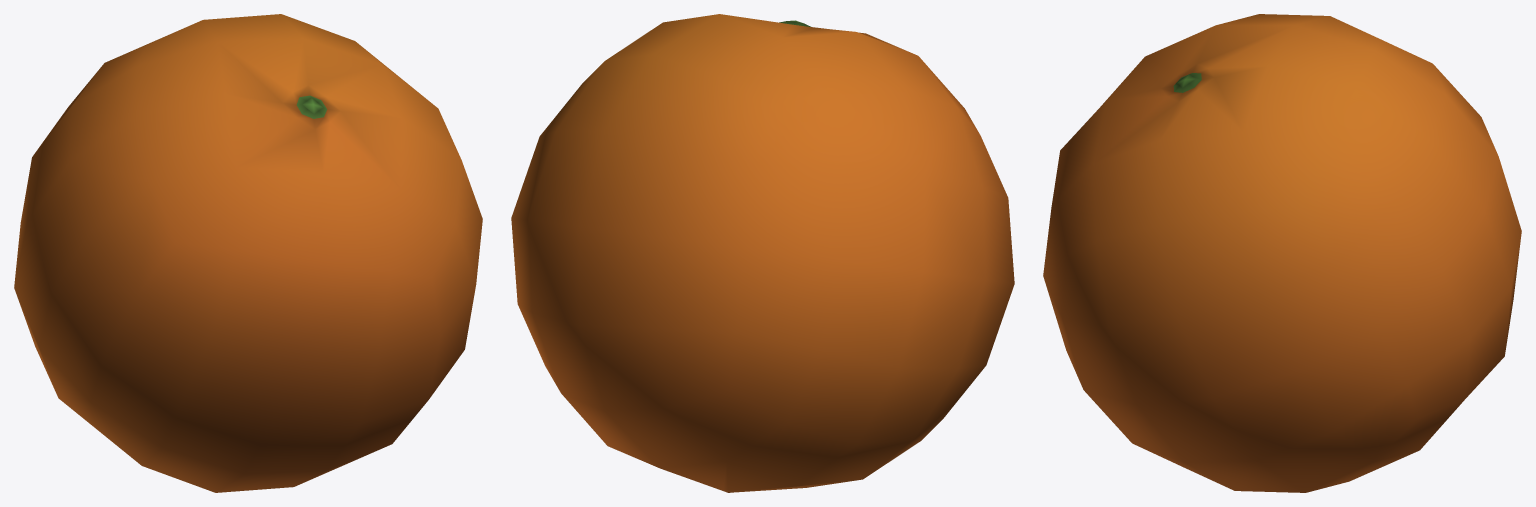
3 renders of one model, left to right at view 1: azimuth 30°, elevation 25°; view 2: azimuth 150°, elevation 25°; view 3: azimuth 270°, elevation 25°, orthographic. The views are drawn at different scales.
Parts seen in each view (by area): view 1: Orange; view 2: Orange; view 3: Orange.
Part boxes in pixels (x1,y1,x2,y2): Orange: [14, 14, 482, 492]; Orange: [511, 14, 1014, 492]; Orange: [1043, 14, 1521, 492].
Bounding box in the file's own units: 0.499 × 0.498 × 0.5.
